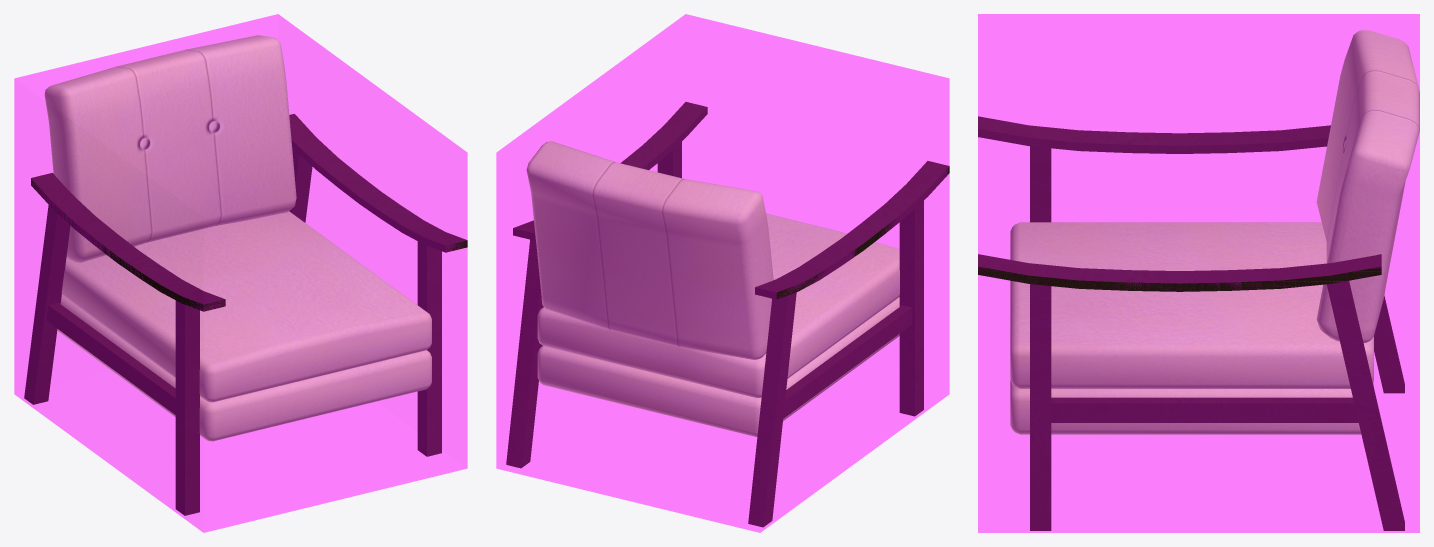
Rendered from sofa.fbx.
The picture shows the model from 3 angles, left to right: view 1: azimuth 30°, elevation 25°; view 2: azimuth 150°, elevation 25°; view 3: azimuth 270°, elevation 25°; orthographic projection. The views are drawn at different scales.
Parts seen in each view (by area): view 1: boundingbox, sofa; view 2: boundingbox, sofa; view 3: boundingbox, sofa.
Boxes of the visible parts, x1,y1,x2,y2 form: boundingbox: (14, 14, 467, 532); sofa: (24, 35, 467, 515); boundingbox: (496, 14, 949, 532); sofa: (506, 102, 949, 527); boundingbox: (978, 14, 1419, 532); sofa: (978, 30, 1419, 530).
Bounding box in the file's own units: 90.99 × 104 × 113.
4 materials, 3 textured.
